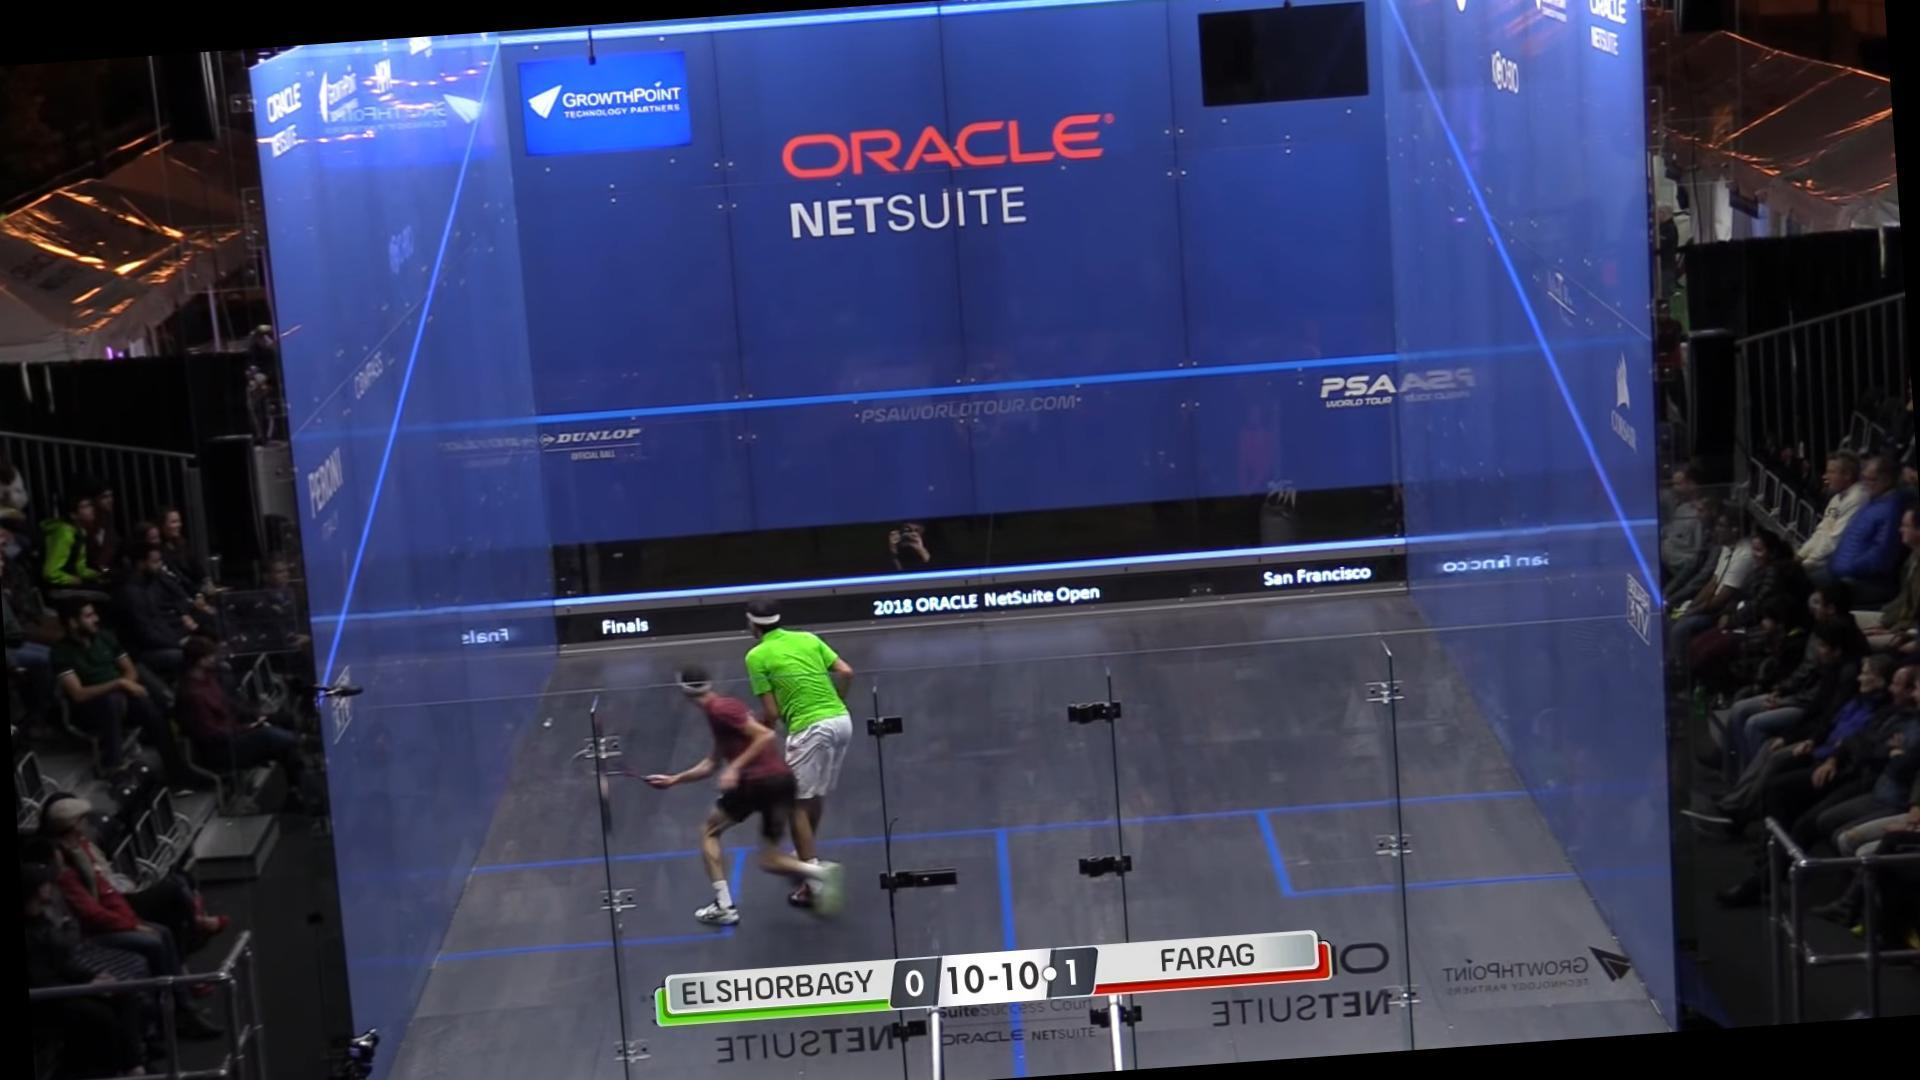Squash-Ball: (535, 708, 568, 733)
